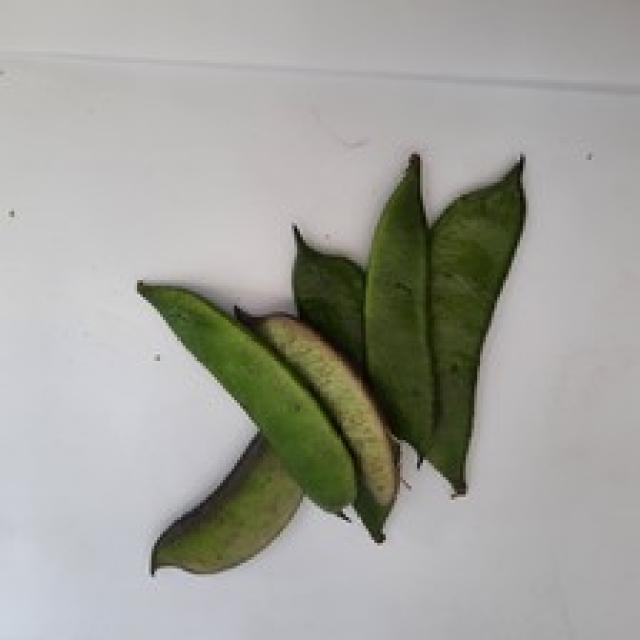Bean: (296, 148, 534, 466), (134, 277, 357, 514), (231, 303, 400, 537)
